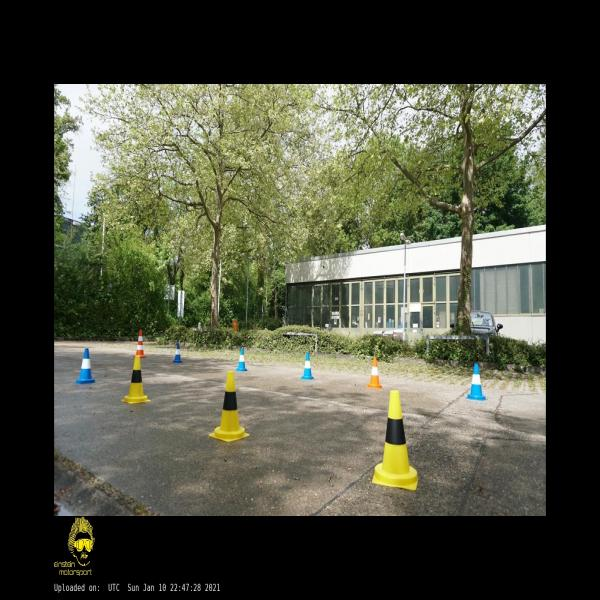blue_cone: (73, 348, 96, 385), (466, 363, 486, 401), (300, 353, 314, 380), (236, 347, 247, 372), (173, 344, 182, 363)
large_orange_cone: (133, 330, 147, 358)
orange_cone: (366, 357, 382, 388)
yellow_cone: (372, 390, 418, 490), (208, 370, 250, 442), (120, 355, 150, 403)
